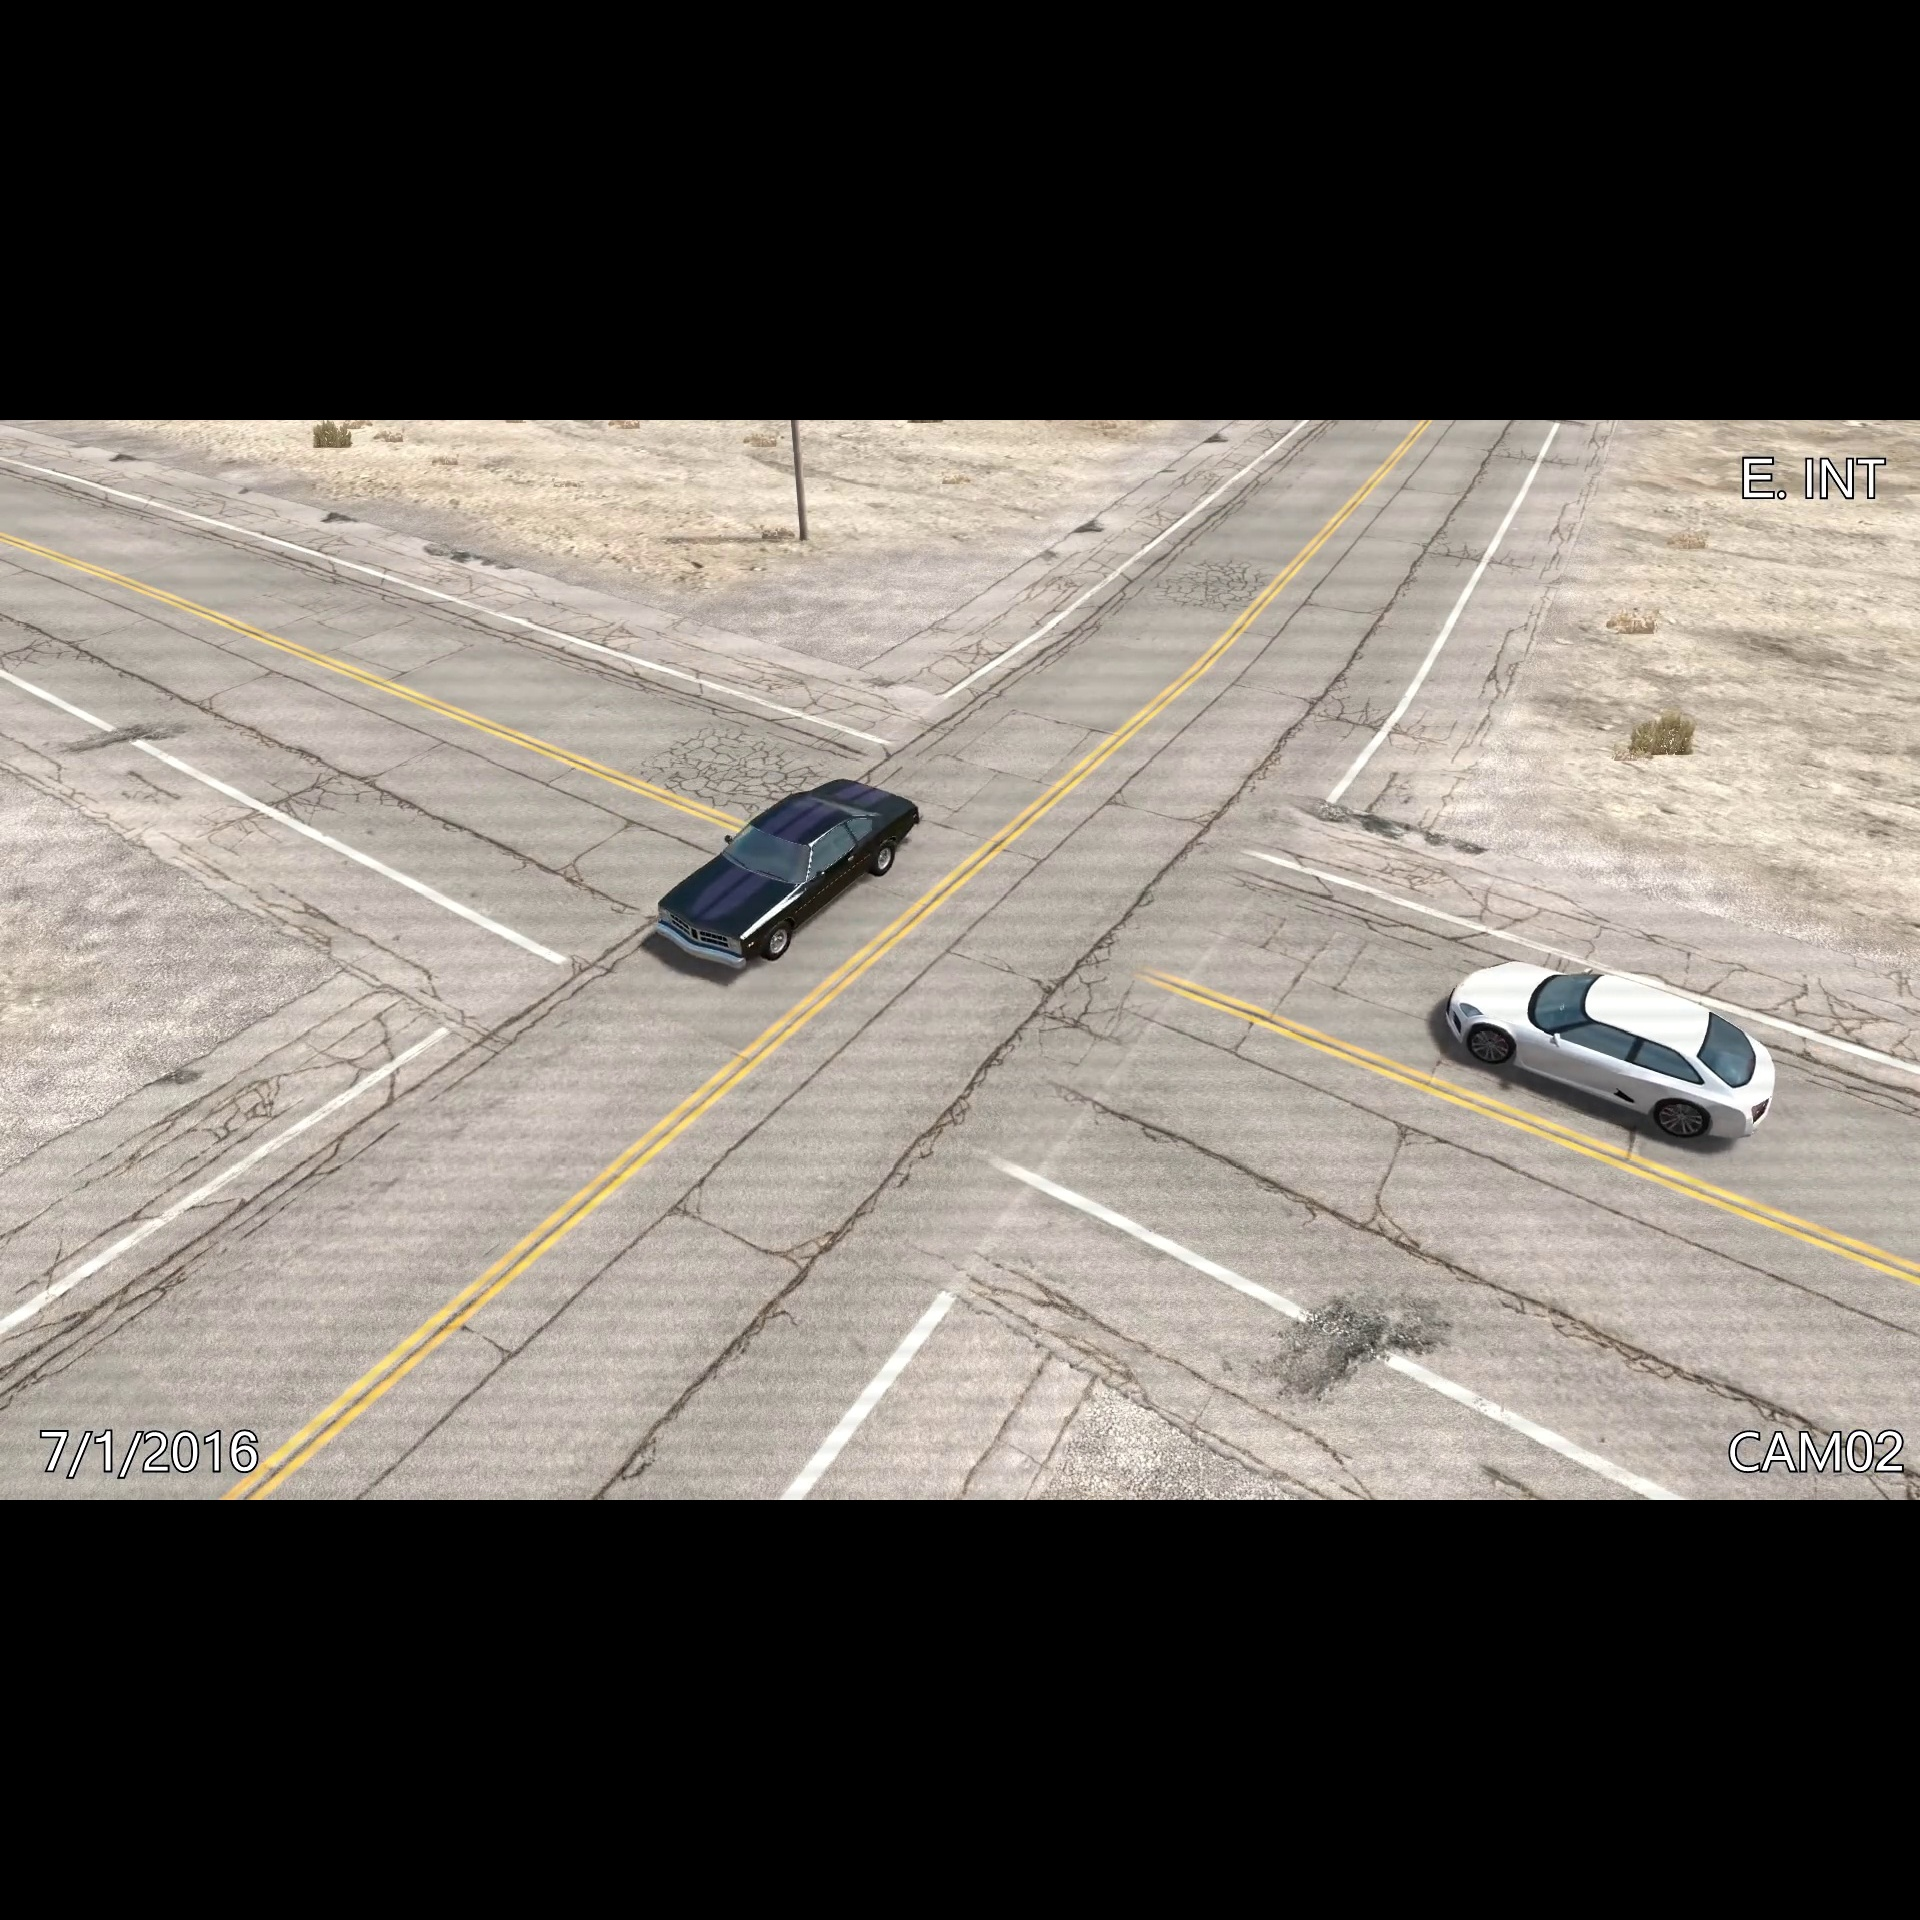vehicle: (1433, 951, 1785, 1153), (652, 768, 934, 983)
